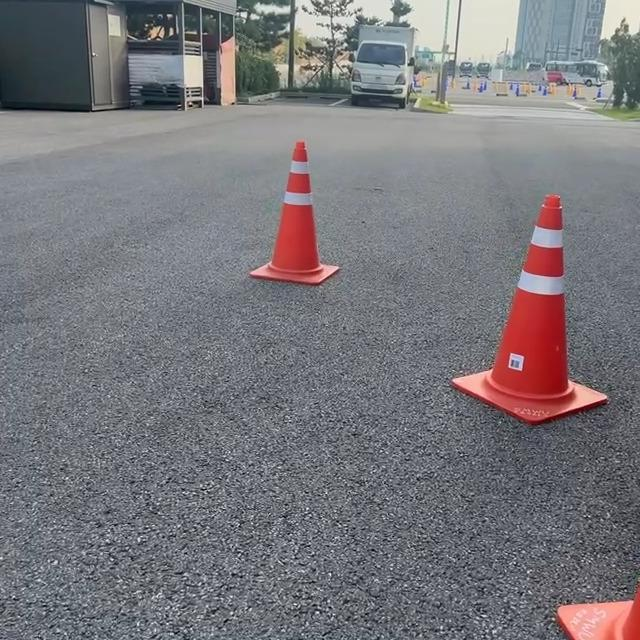fallen_object: (420, 143, 578, 423), (510, 479, 640, 640), (246, 126, 366, 298)
